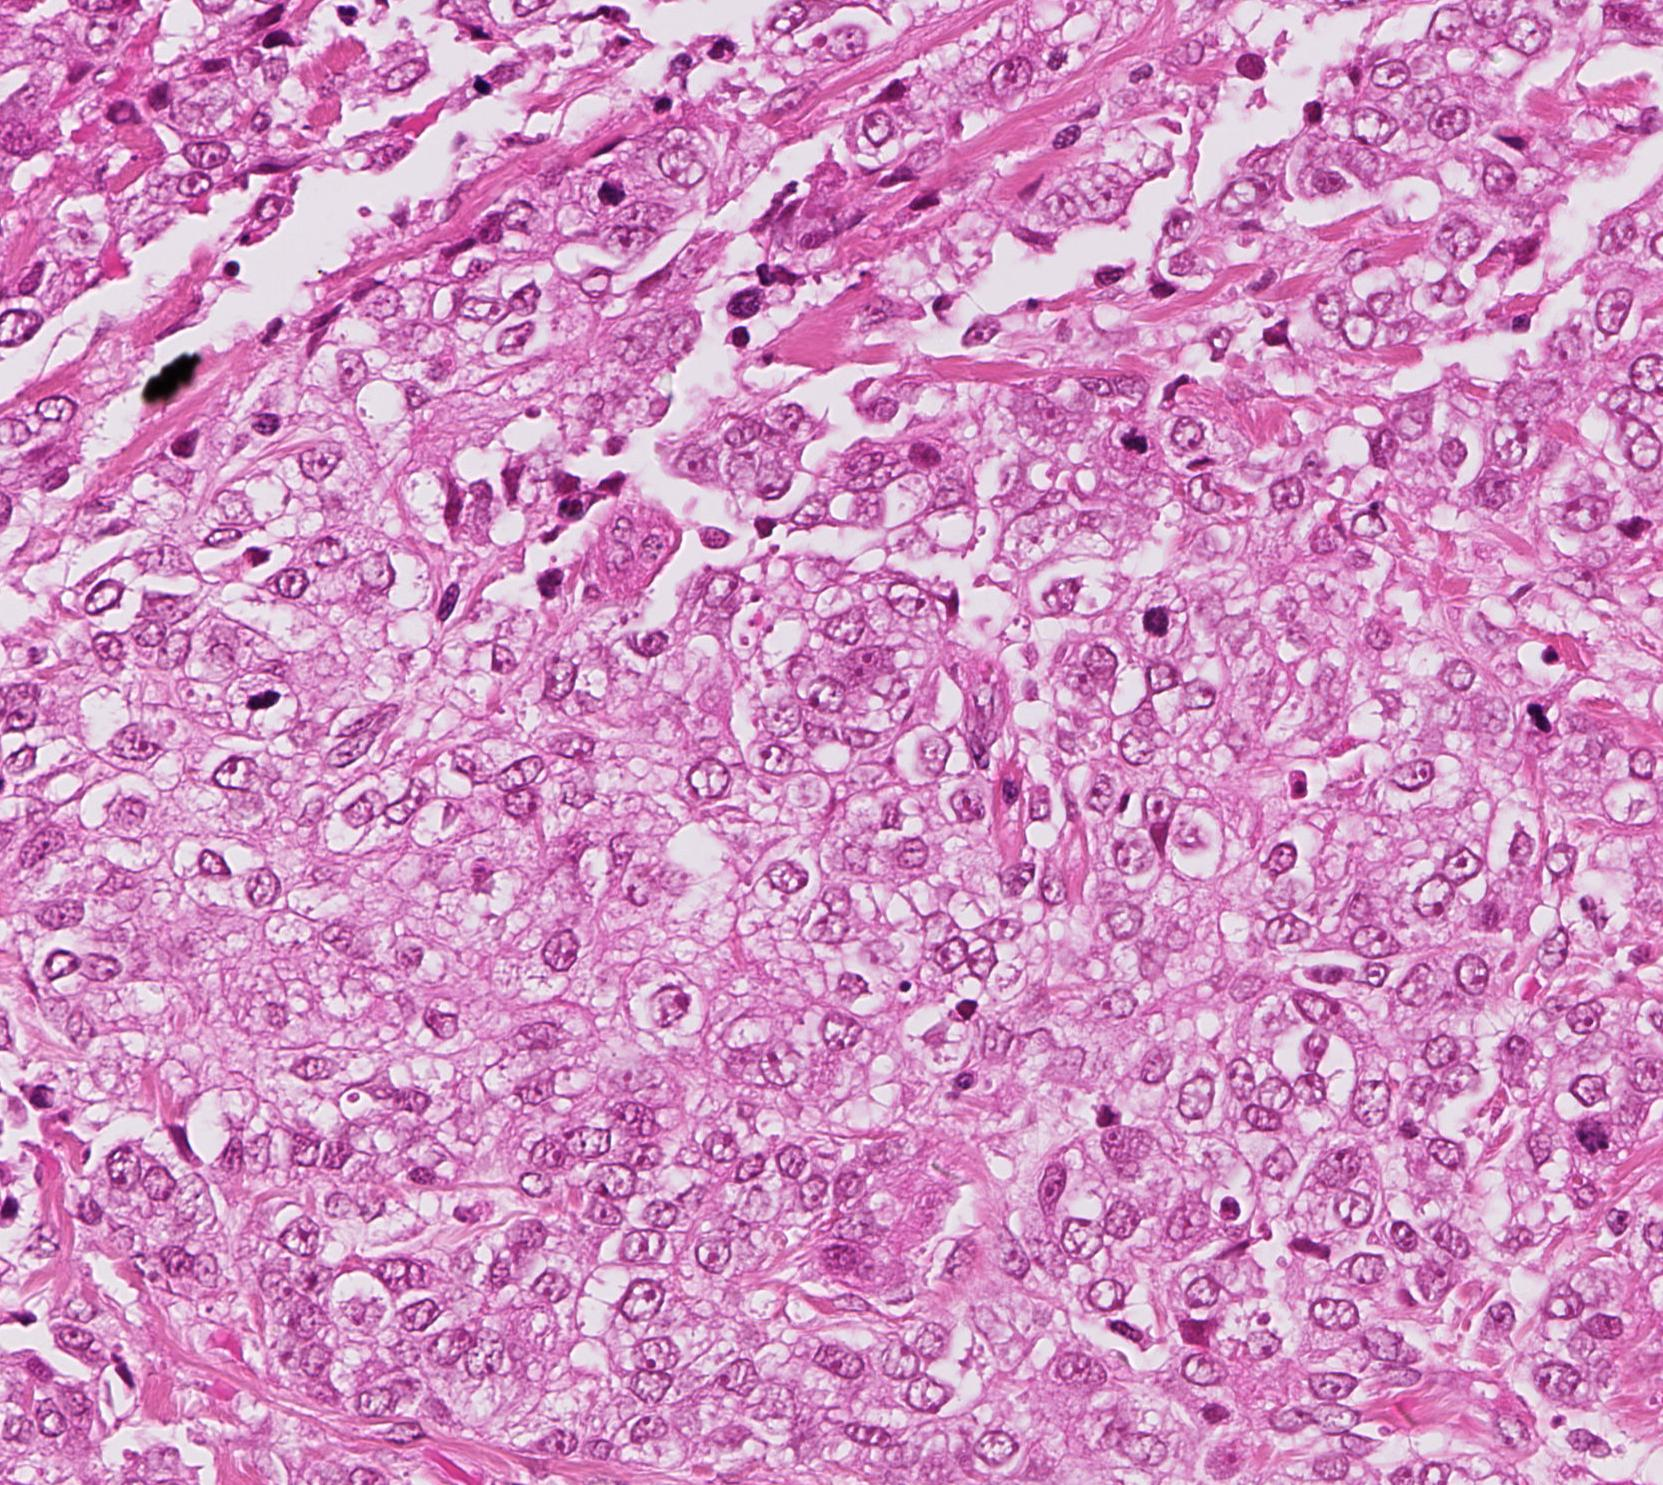mitosis: (1128, 593, 1188, 654), (234, 669, 294, 730)
